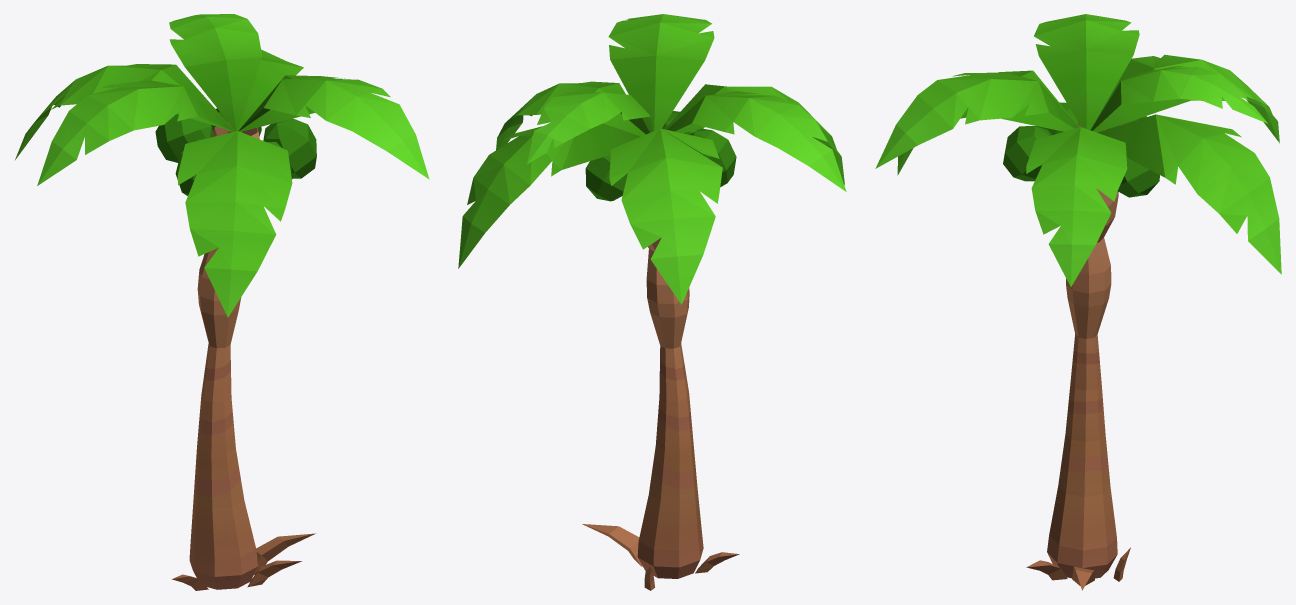
File: tree.fbx
The picture shows the model from 3 angles, left to right: view 1: azimuth 30°, elevation 25°; view 2: azimuth 150°, elevation 25°; view 3: azimuth 270°, elevation 25°; orthographic projection. The views are drawn at different scales.
Parts seen in each view (by area): view 1: tree; view 2: tree; view 3: tree.
Part boxes in pixels (x1=…): tree: x1=15, y1=14, x2=429, y2=590; tree: x1=458, y1=14, x2=846, y2=590; tree: x1=875, y1=14, x2=1281, y2=590.
Bounding box in the file's own units: 274 × 370 × 259.
